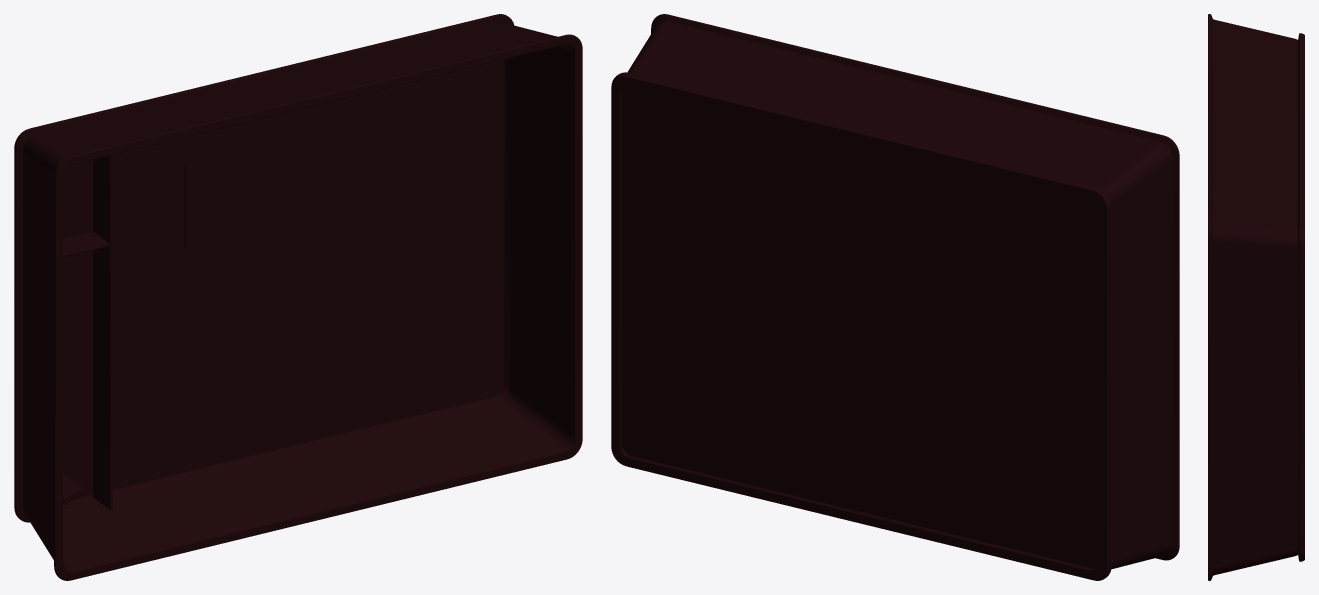
Rendered from tray_1.obj.
3 renders of one model, left to right at view 1: azimuth 30°, elevation 25°; view 2: azimuth 150°, elevation 25°; view 3: azimuth 270°, elevation 25°, orthographic. The views are drawn at different scales.
Parts seen in each view (by area): view 1: Tray_560x430x105mm.001; view 2: Tray_560x430x105mm.001; view 3: Tray_560x430x105mm.001.
Part boxes in pixels (x1,y1,x2,y2): Tray_560x430x105mm.001: (14, 14, 582, 580); Tray_560x430x105mm.001: (611, 14, 1179, 580); Tray_560x430x105mm.001: (1208, 14, 1304, 580).
Size of the model in its own units: 0.56 by 0.43 by 0.105.
